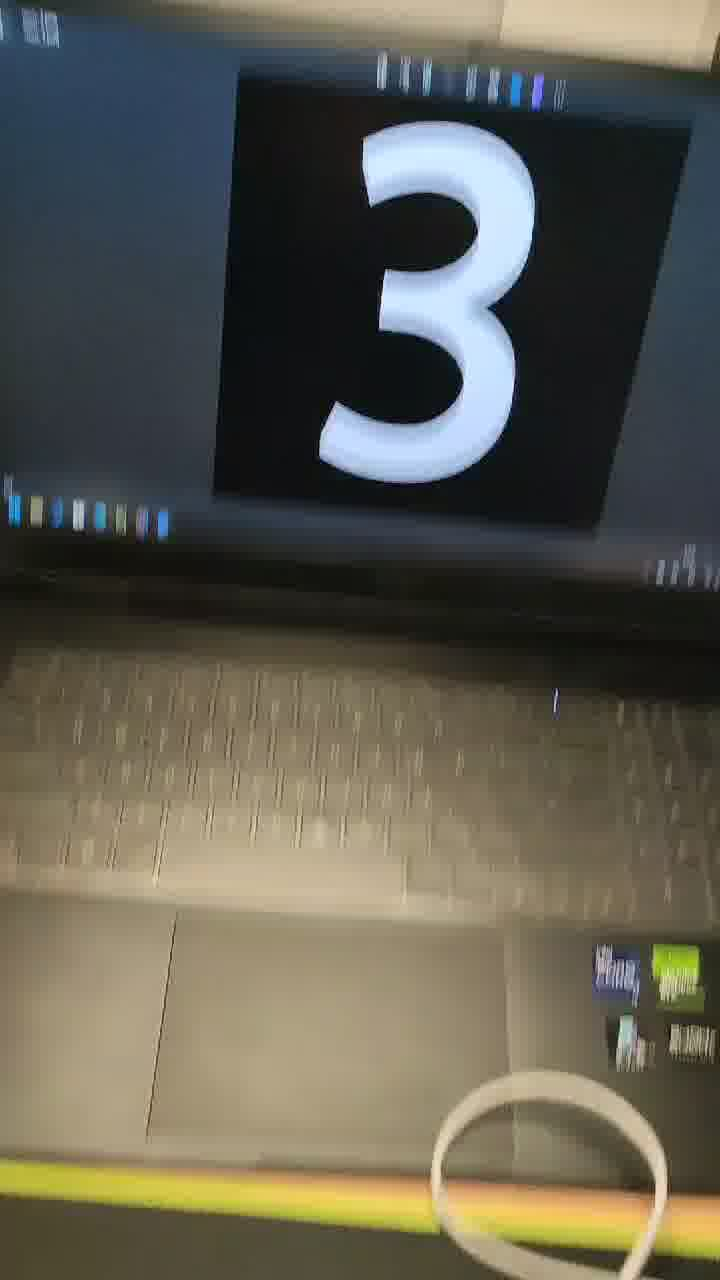three: (304, 60, 625, 592)
